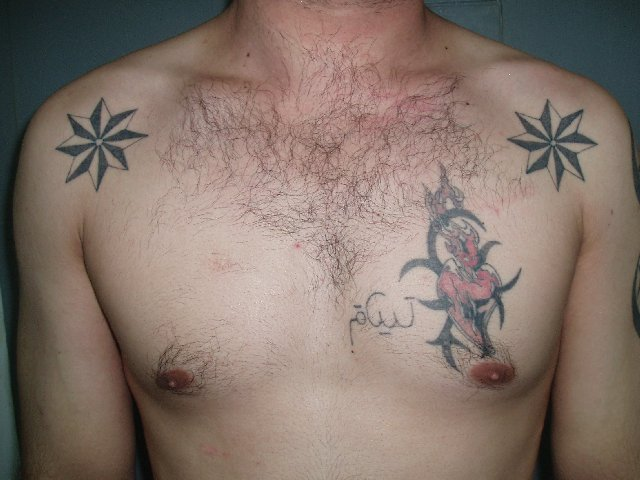tatu4_zvezda: (55, 98, 148, 195), (508, 100, 600, 190)
